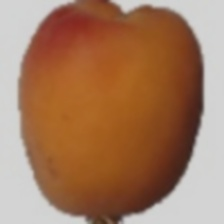apricot: (51, 11, 218, 201)
